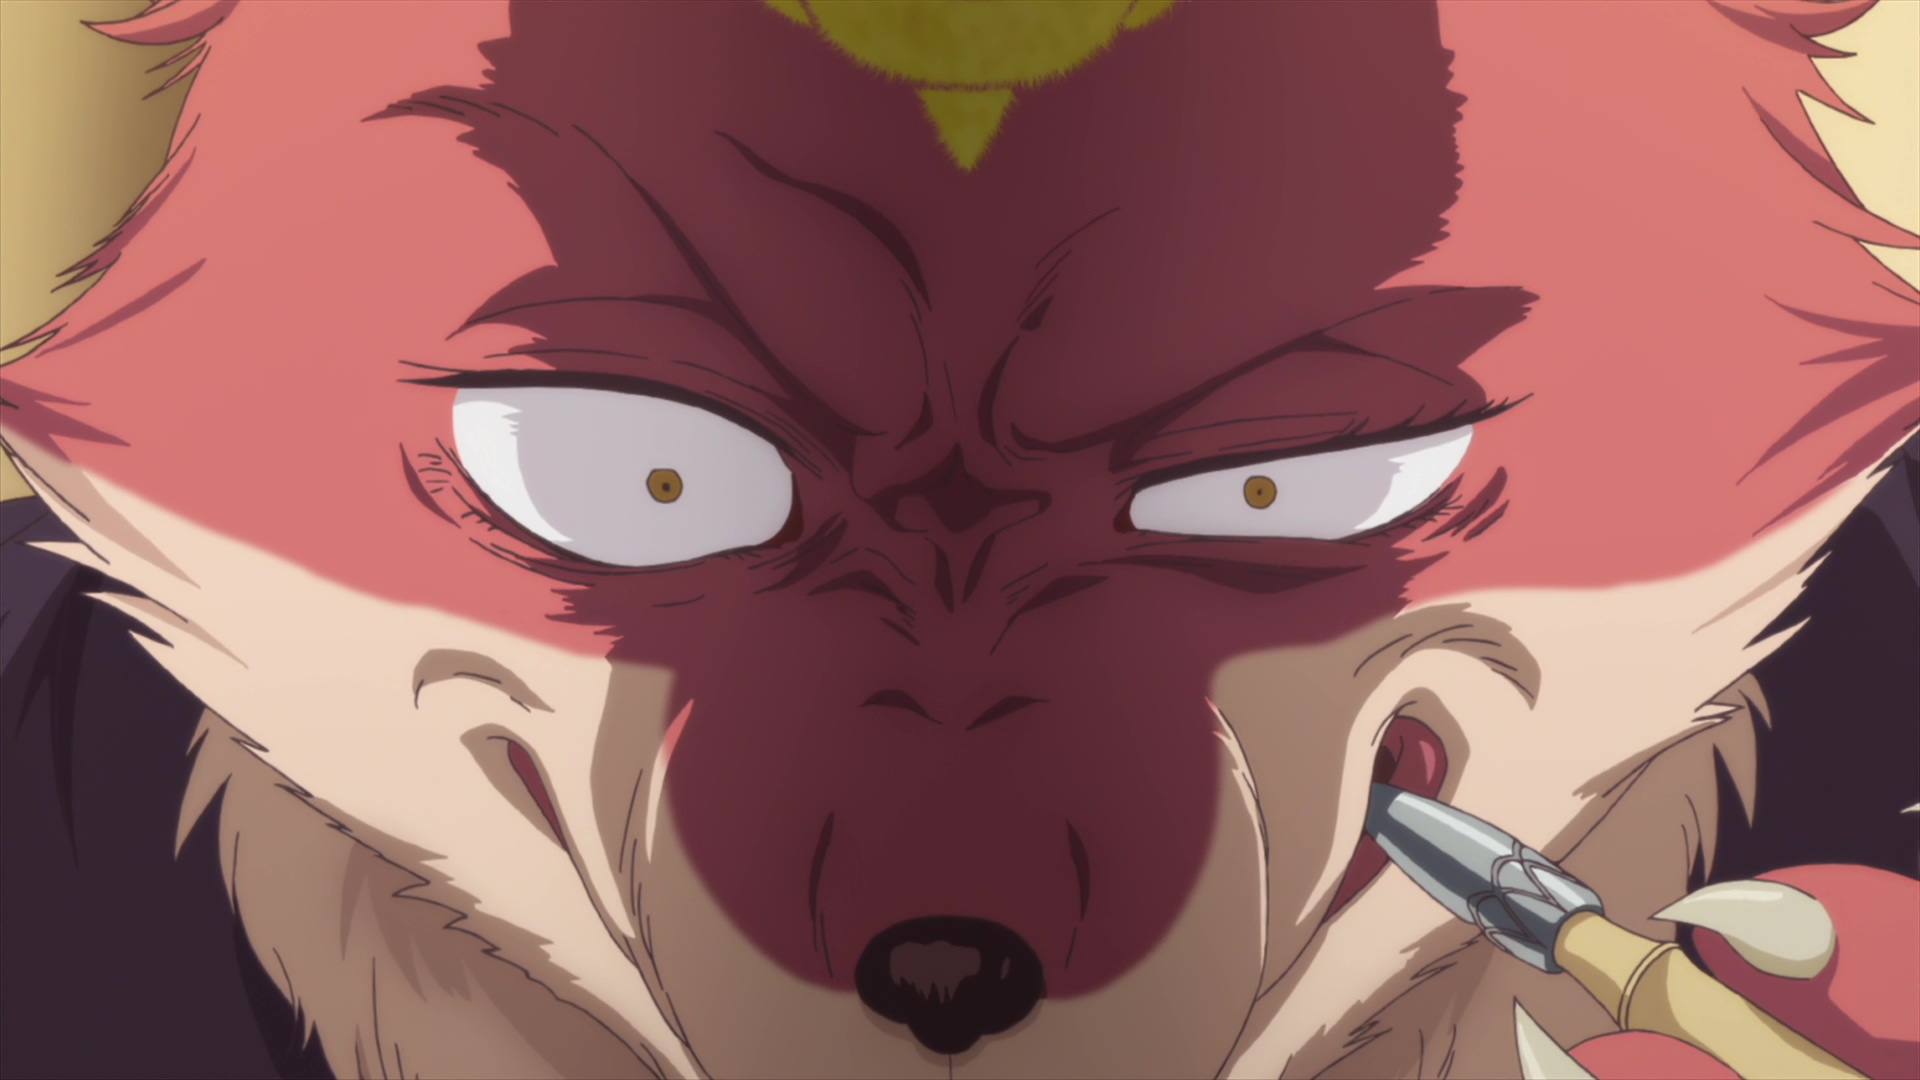椿: (1, 1, 1920, 1080)
